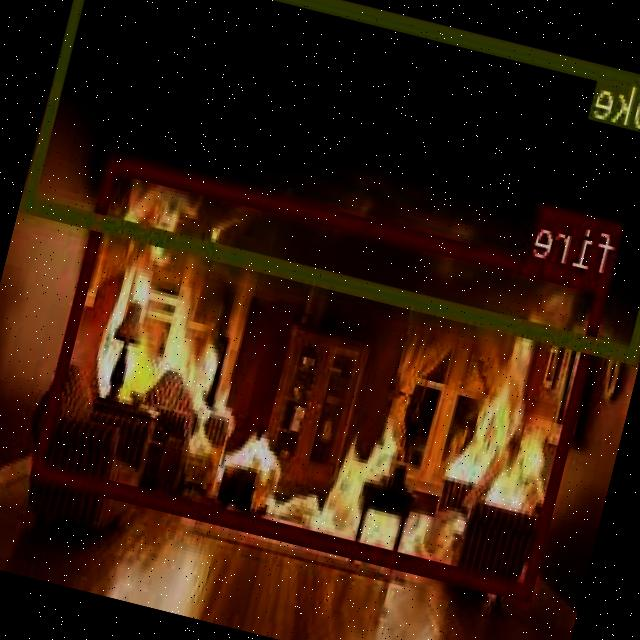fire: (32, 152, 611, 598)
smoke: (24, 0, 640, 361)
